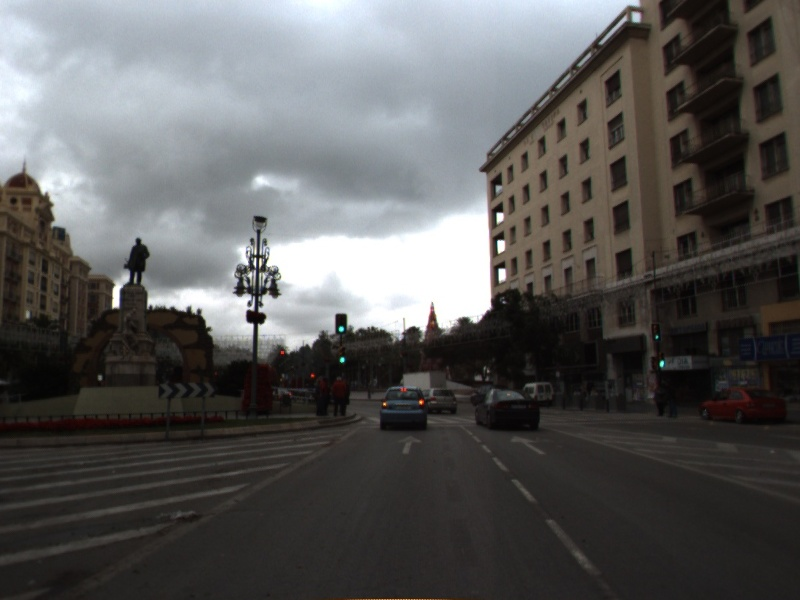STRAIGHT: (508, 433, 548, 456), (395, 434, 425, 456)
